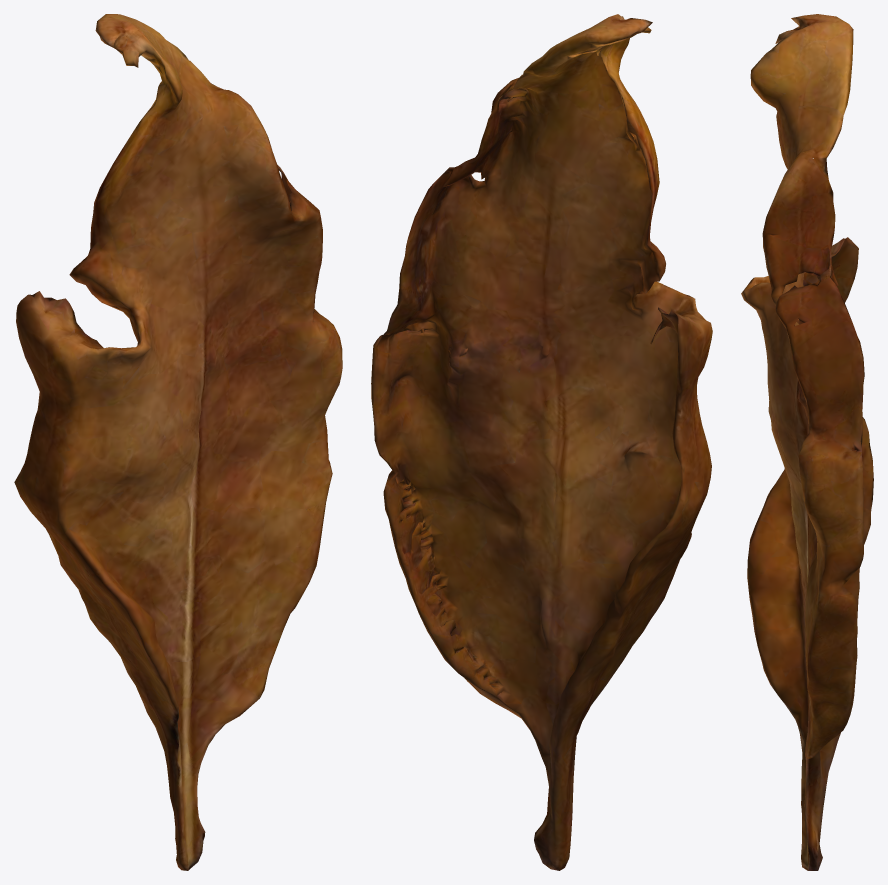
3 renders of one model, left to right at view 1: azimuth 30°, elevation 25°; view 2: azimuth 150°, elevation 25°; view 3: azimuth 270°, elevation 25°, orthographic. The views are drawn at different scales.
Size of the model in its own units: 0.7459 by 1.99 by 0.2927.
Materials: 1 (1 with a texture image).
